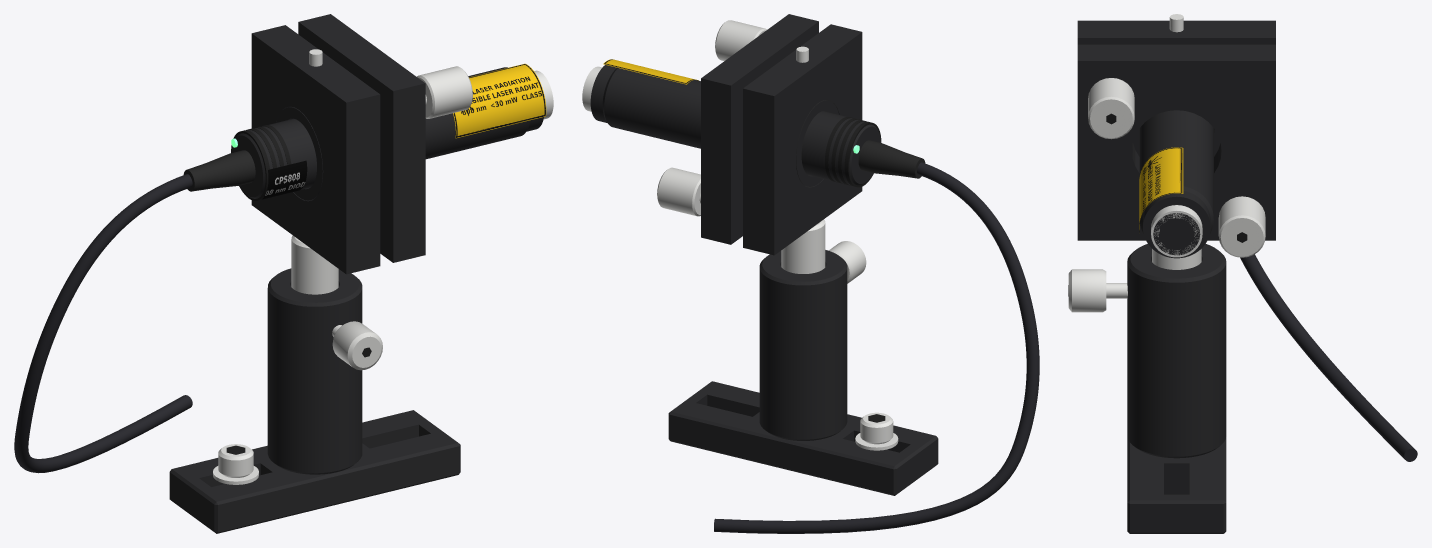
Rendered from laser_808.glb.
The picture shows the model from 3 angles, left to right: view 1: azimuth 30°, elevation 25°; view 2: azimuth 150°, elevation 25°; view 3: azimuth 270°, elevation 25°; orthographic projection. The views are drawn at different scales.
Parts seen in each view (by area): view 1: Body; view 2: Body; view 3: Body.
Part boxes in pixels (<box>): Body: <box>14,14,553,533</box>; Body: <box>582,14,1039,533</box>; Body: <box>1068,14,1417,533</box>.
Bounding box in the file's own units: 0.1541 × 0.1289 × 0.0895.
11 materials, 2 textured.
